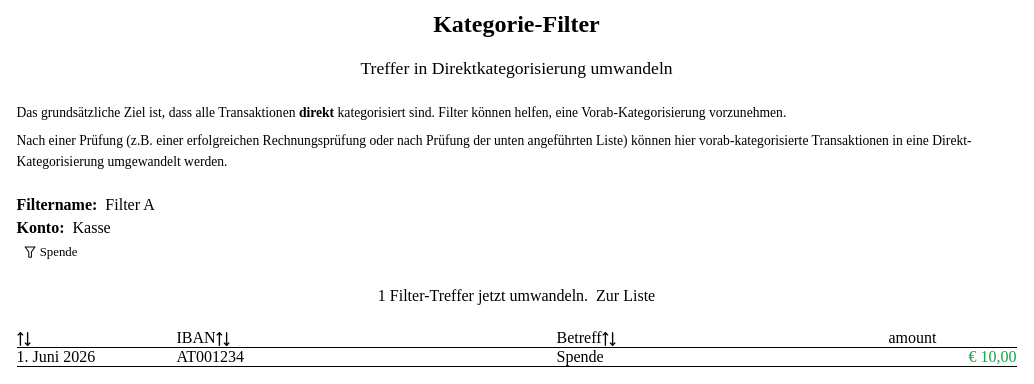
it: Filter2DirectView › processes the conversion and shows a success toast once the confirmation is accepted
The image size is (1034, 384).
Click the button "1 Filter-Treffer jetzt umwandeln." at (483,296), box [378,287,588,305]
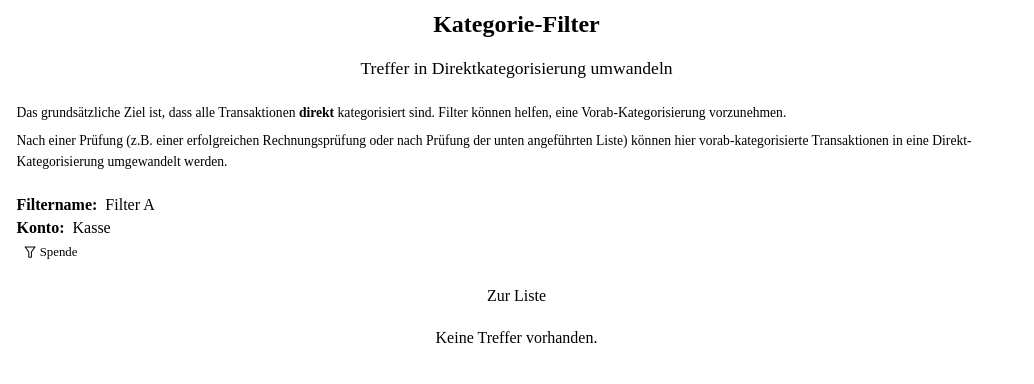
Check: the text "Keine Treffer vorhanden." is shown, box [436,329,597,346]
